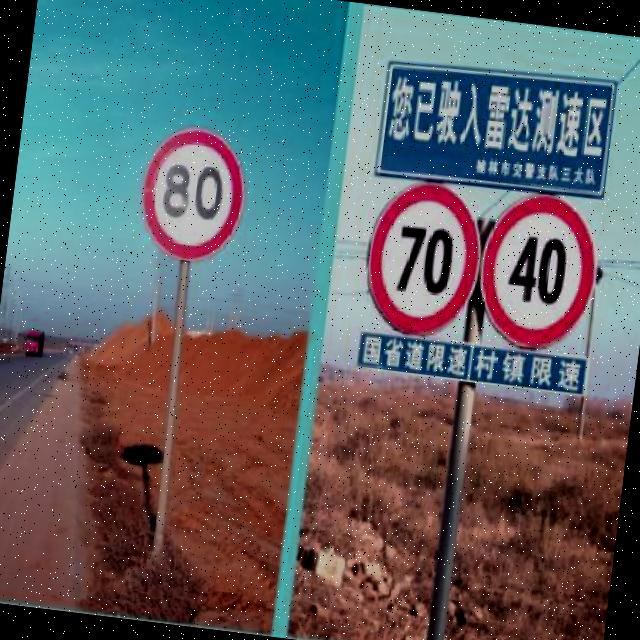Ograniczenie predkosci do 80: (131, 123, 248, 270)
